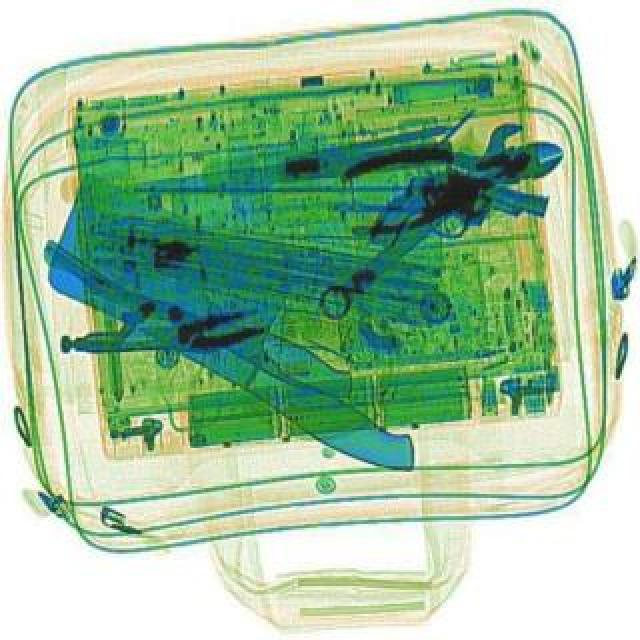gun: (366, 146, 550, 288)
knife: (20, 166, 472, 484), (92, 274, 360, 404)
scissors: (306, 112, 538, 328)
wrench: (332, 114, 574, 238)
